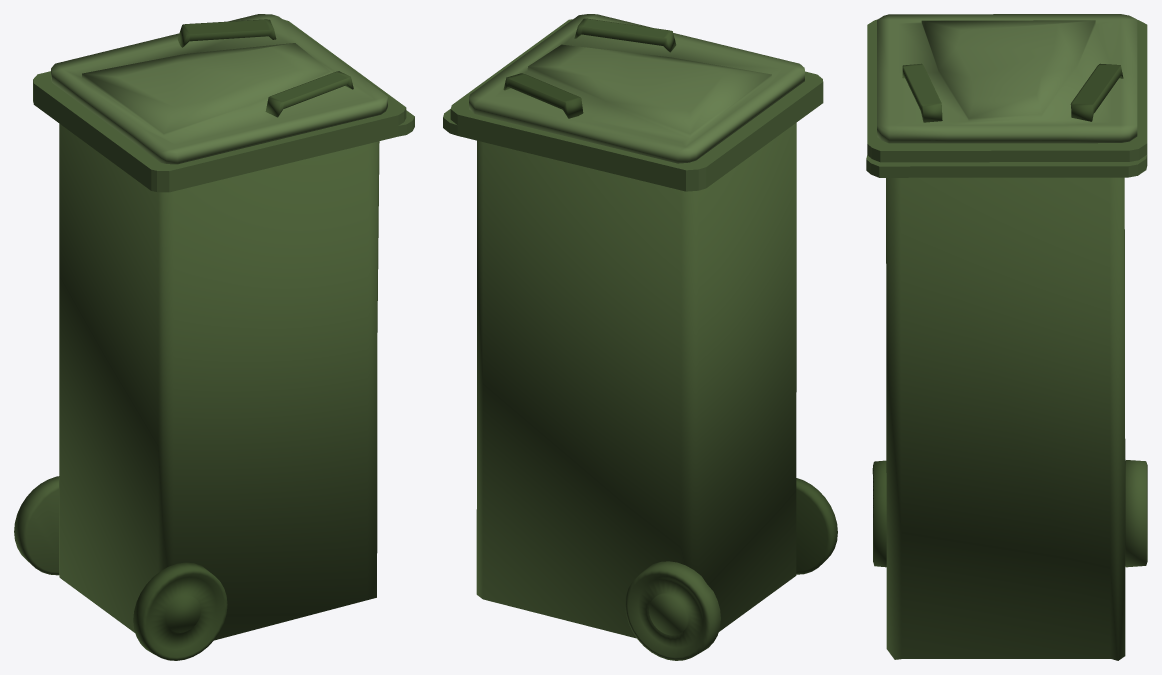
The model's file is KLIKO.fbx.
3 views of the same model, side by side, from view 1: azimuth 30°, elevation 25°; view 2: azimuth 150°, elevation 25°; view 3: azimuth 270°, elevation 25° (orthographic). The views are drawn at different scales.
Visible parts, largest first — view 1: Cylinder.001; view 2: Cylinder.001; view 3: Cylinder.001.
Part boxes in pixels (x1,y1,x2,y2): Cylinder.001: (14, 14, 414, 660); Cylinder.001: (443, 14, 837, 660); Cylinder.001: (866, 14, 1147, 660).
Bounding box in the file's own units: 103 × 187 × 85.85.
